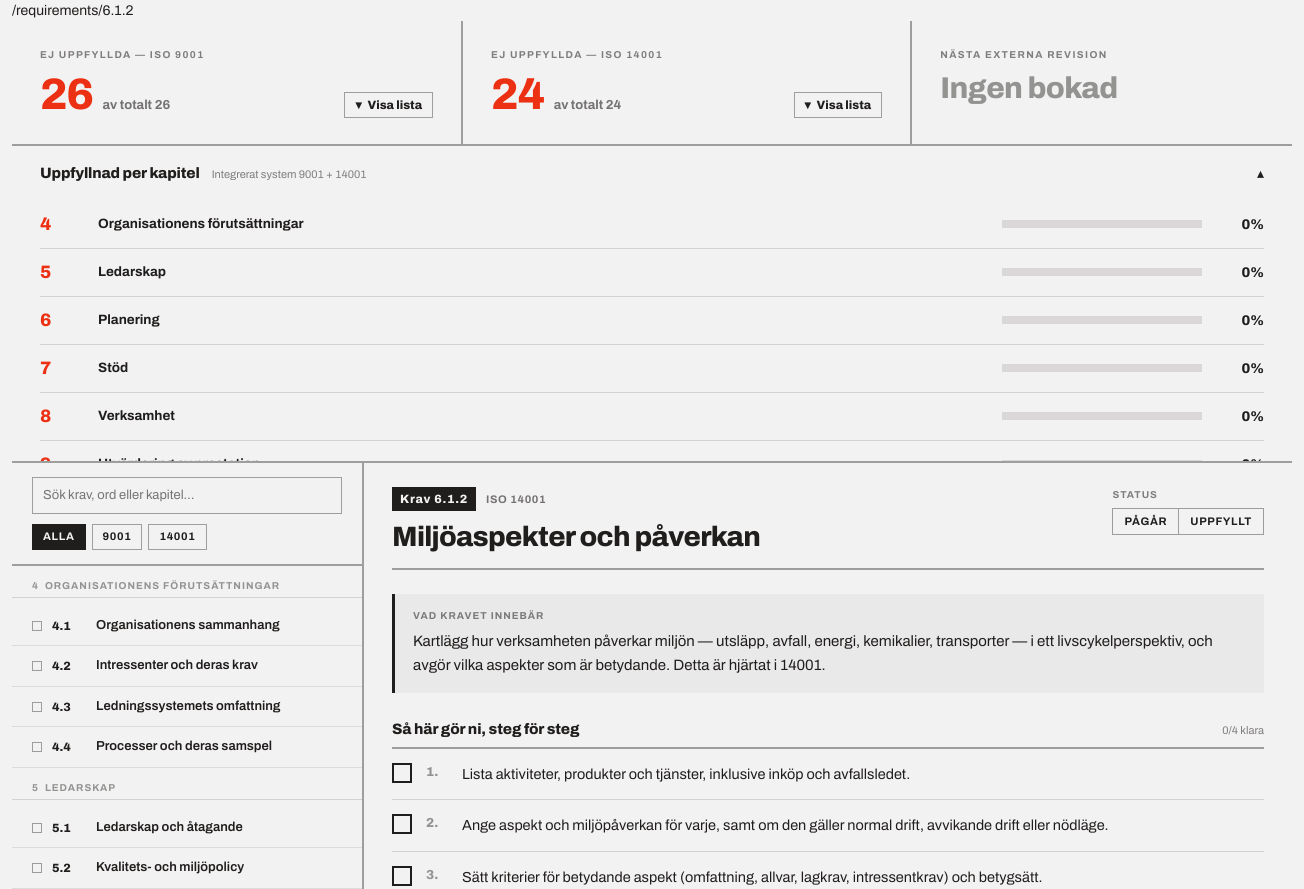
Test: the requirement walkthrough › keeps step state per clause rather than per position
The width and height of the screenshot is (1304, 889).
Click the 1st checkbox.
click(828, 775)  # box [392, 749, 1264, 800]
(page scrolled)
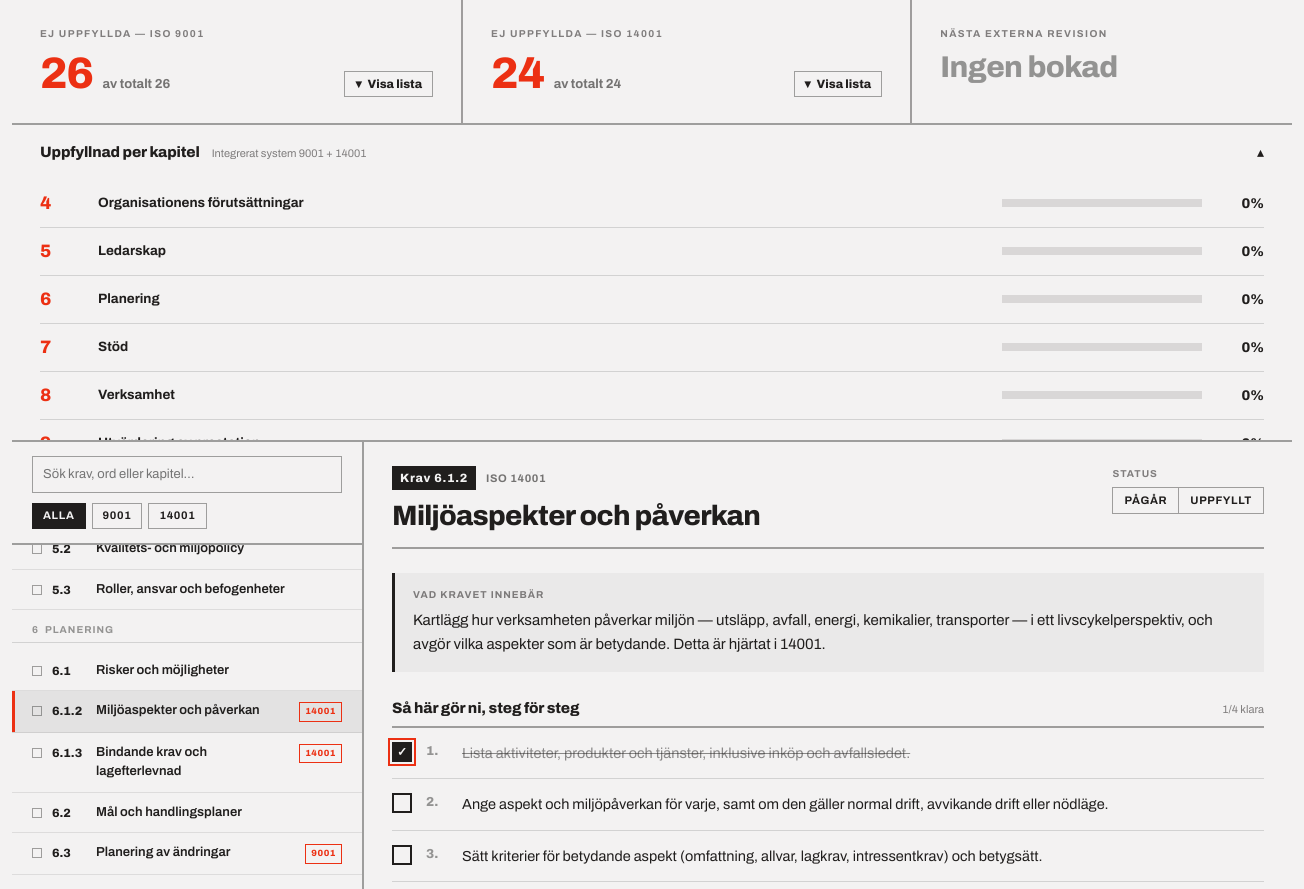
Expected: the 1st checkbox is checked, [392, 728, 1264, 779]
Note: Move to another clause: its first step must not inherit the tick.
Click the button "6.1 Risker och möjligheter".
click(187, 671)  # box [12, 651, 362, 691]
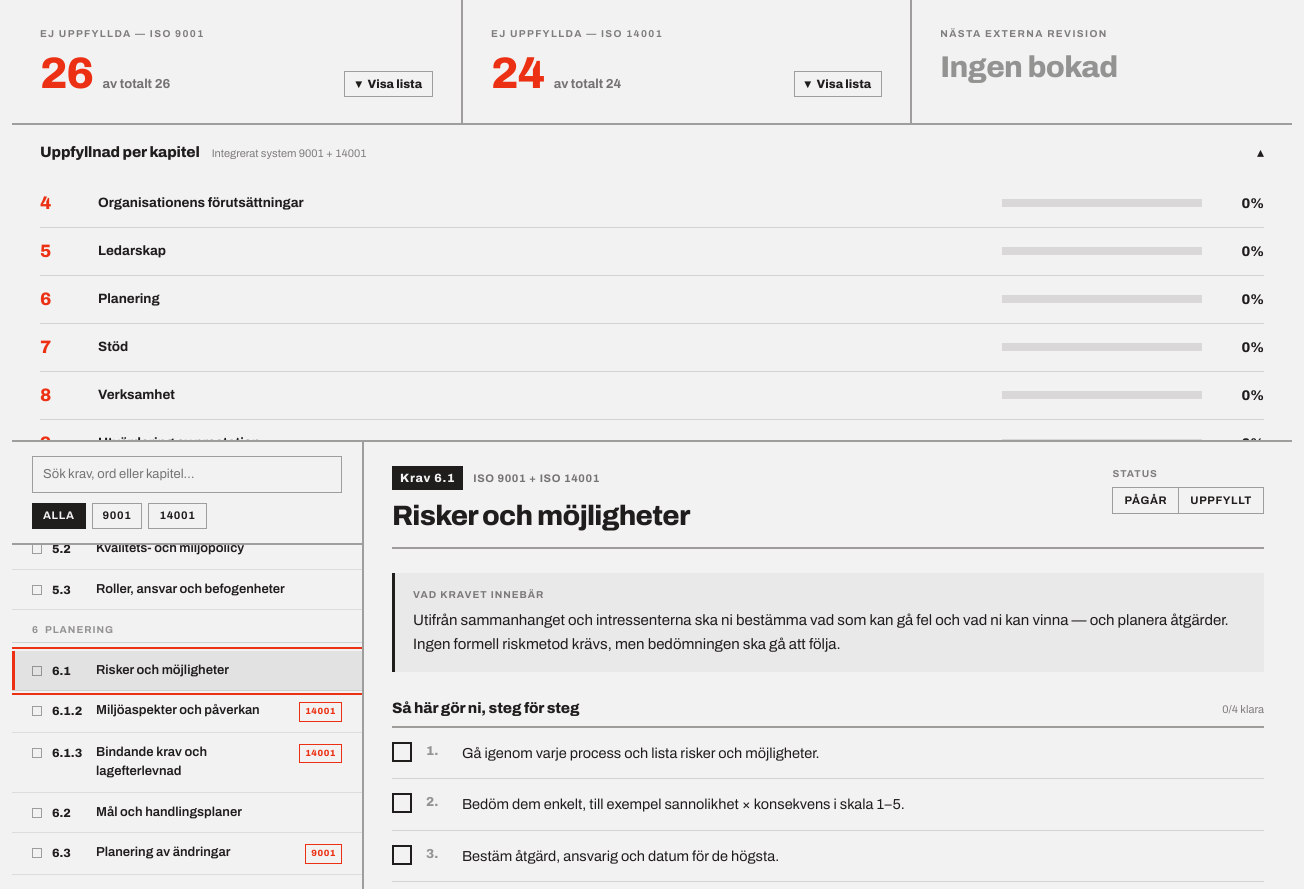
Expected: the checkbox labelled "1. Gå igenom varje process och lista risker och möjligheter." is not checked, [392, 728, 1264, 779]
